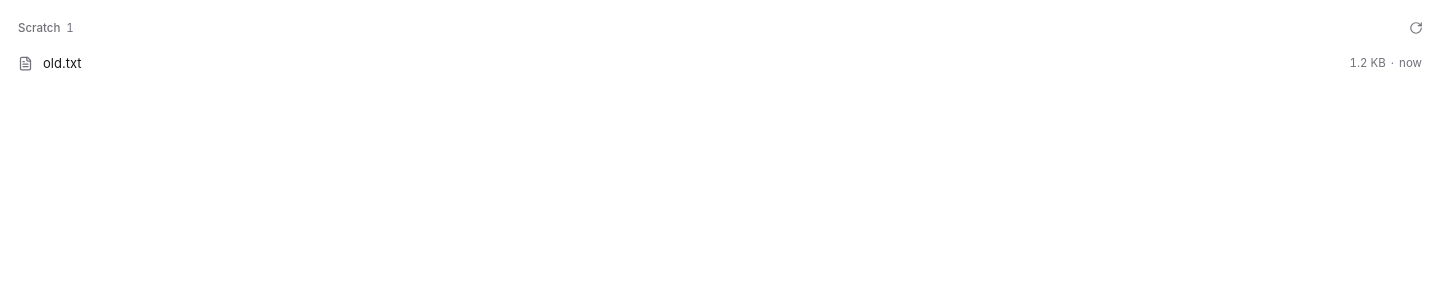
Scenario: Files page › re-reads the list when a read finds the file gone, and focuses the list on return
The image size is (1440, 285).
Later steps or results of the test are not shown.
What coordinates should you click on to do the following:
click the button "old.txt 1.2 KB · now"
I would click on:
 (62, 63)
Its box is [8,46,1432,80].
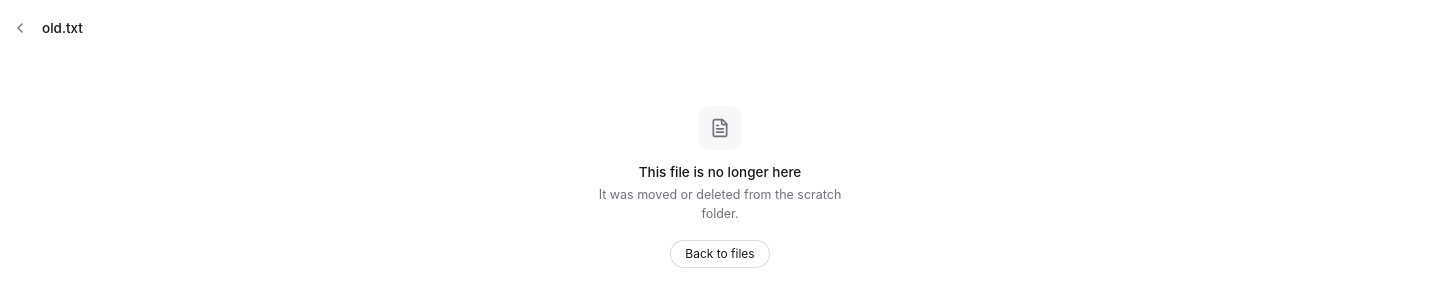
Result: the text "This file is no longer here" is shown at [639,162,801,182]
